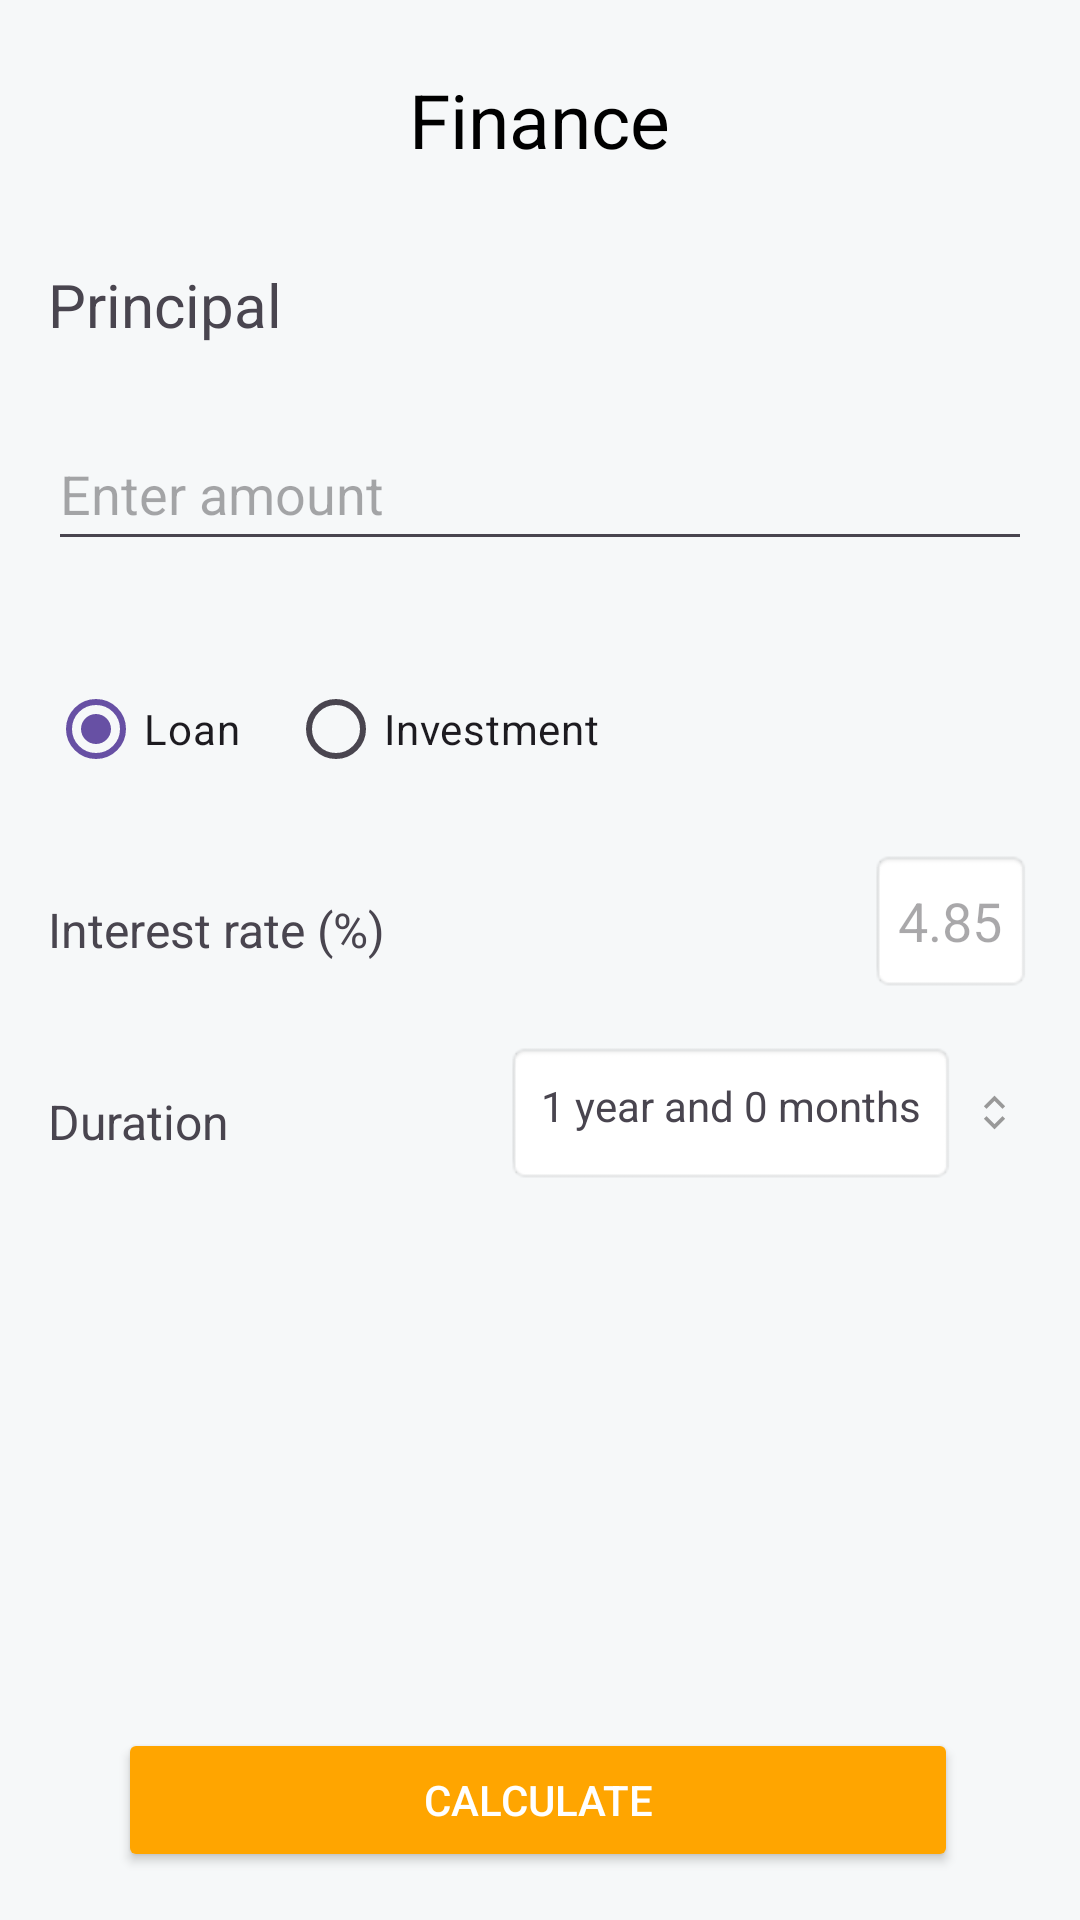

Where to tap for icons on this 1080 x 1920 app screen, as [x,y]:
list specifier: [994,1112]
